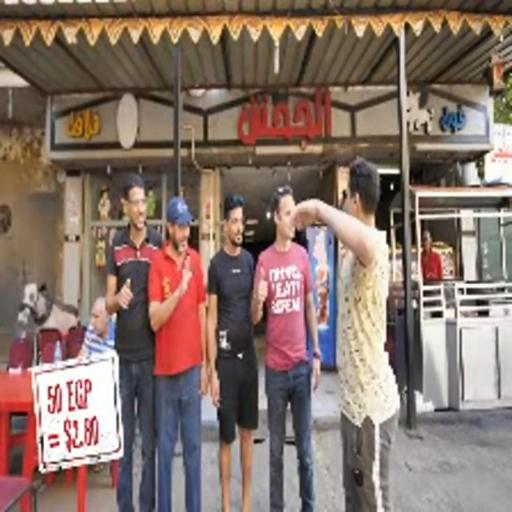nao-violencia: (93, 155, 412, 512)
